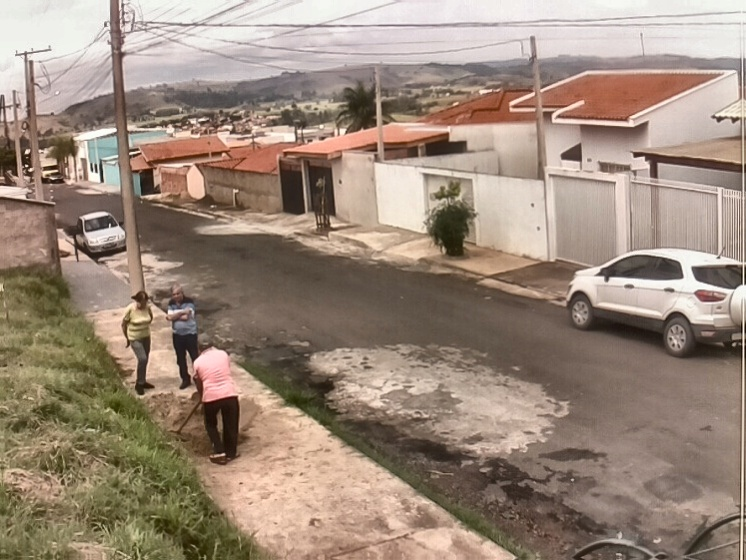person: (192, 335, 242, 461), (164, 284, 204, 391), (122, 291, 158, 395)
